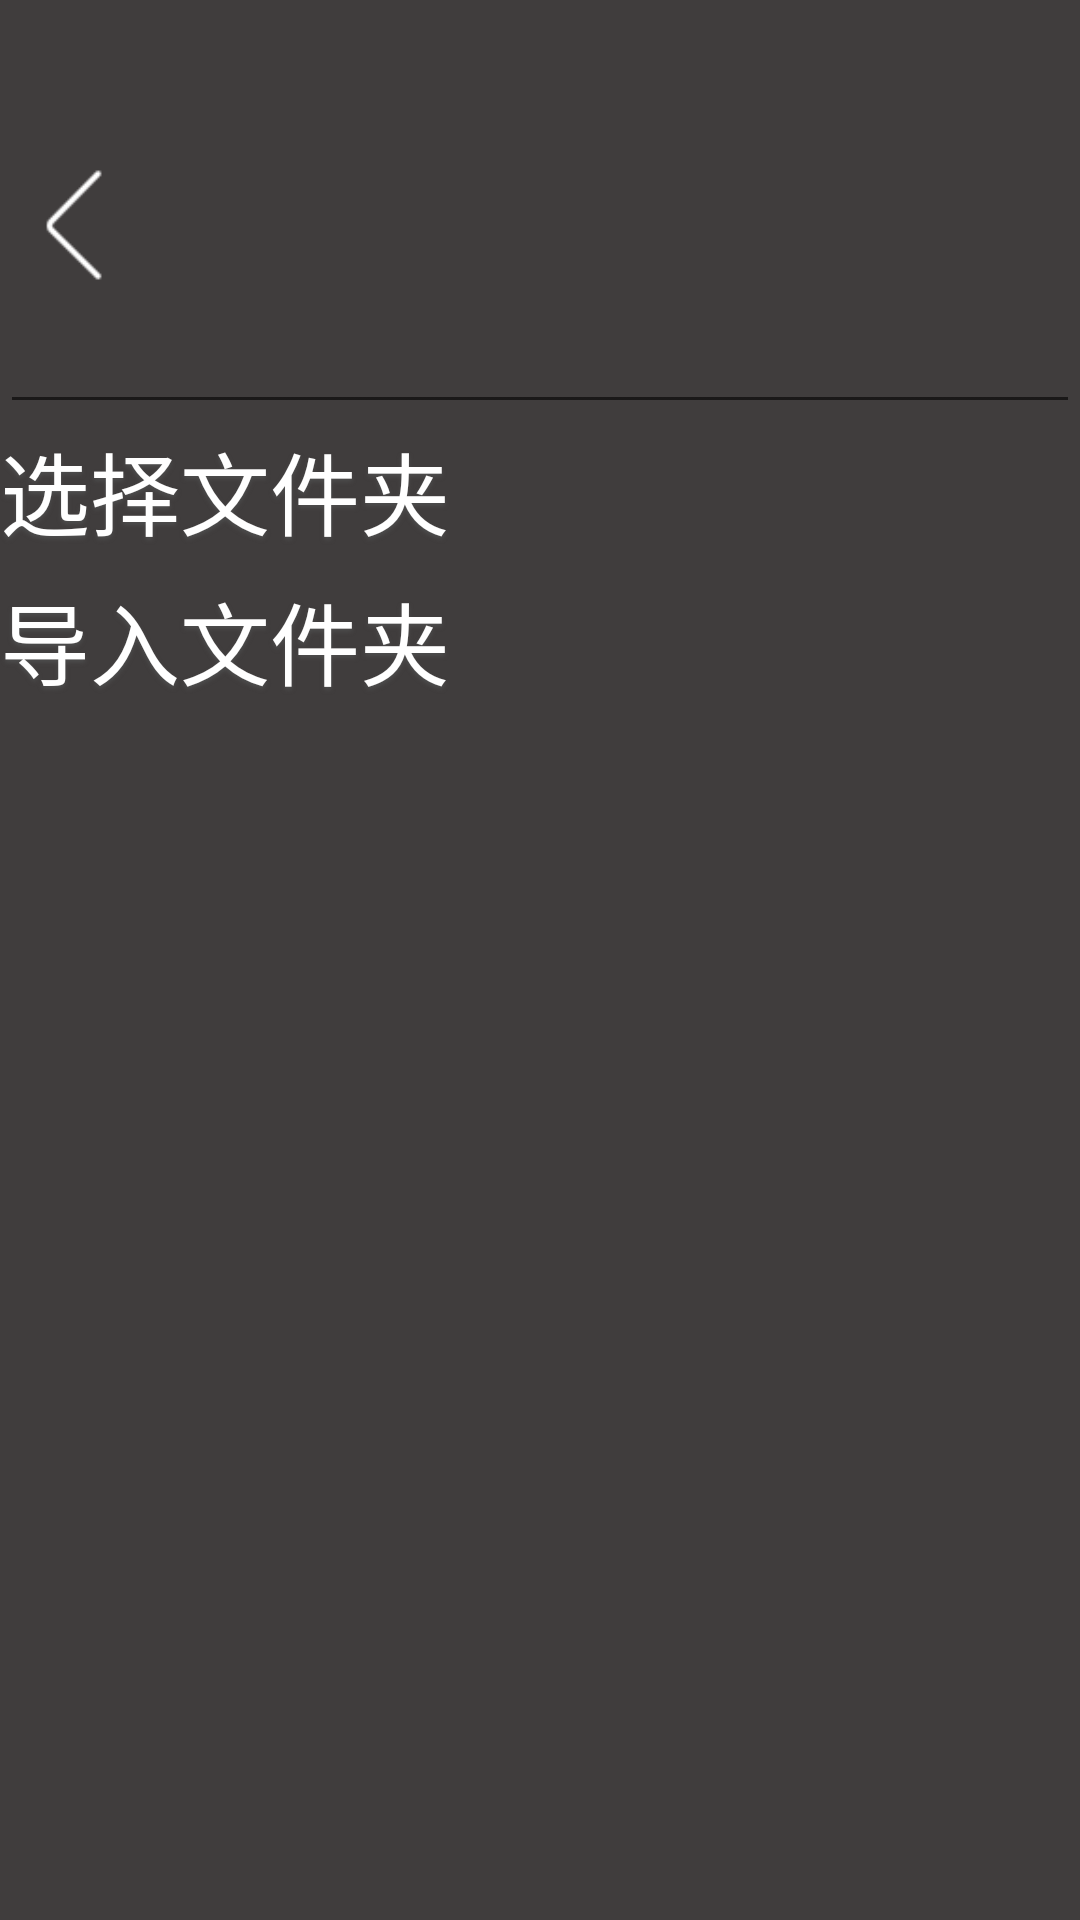

Screen size 1080*1920. Icon name, then its center in pixels as point (x, y):
back: point (74, 225)
